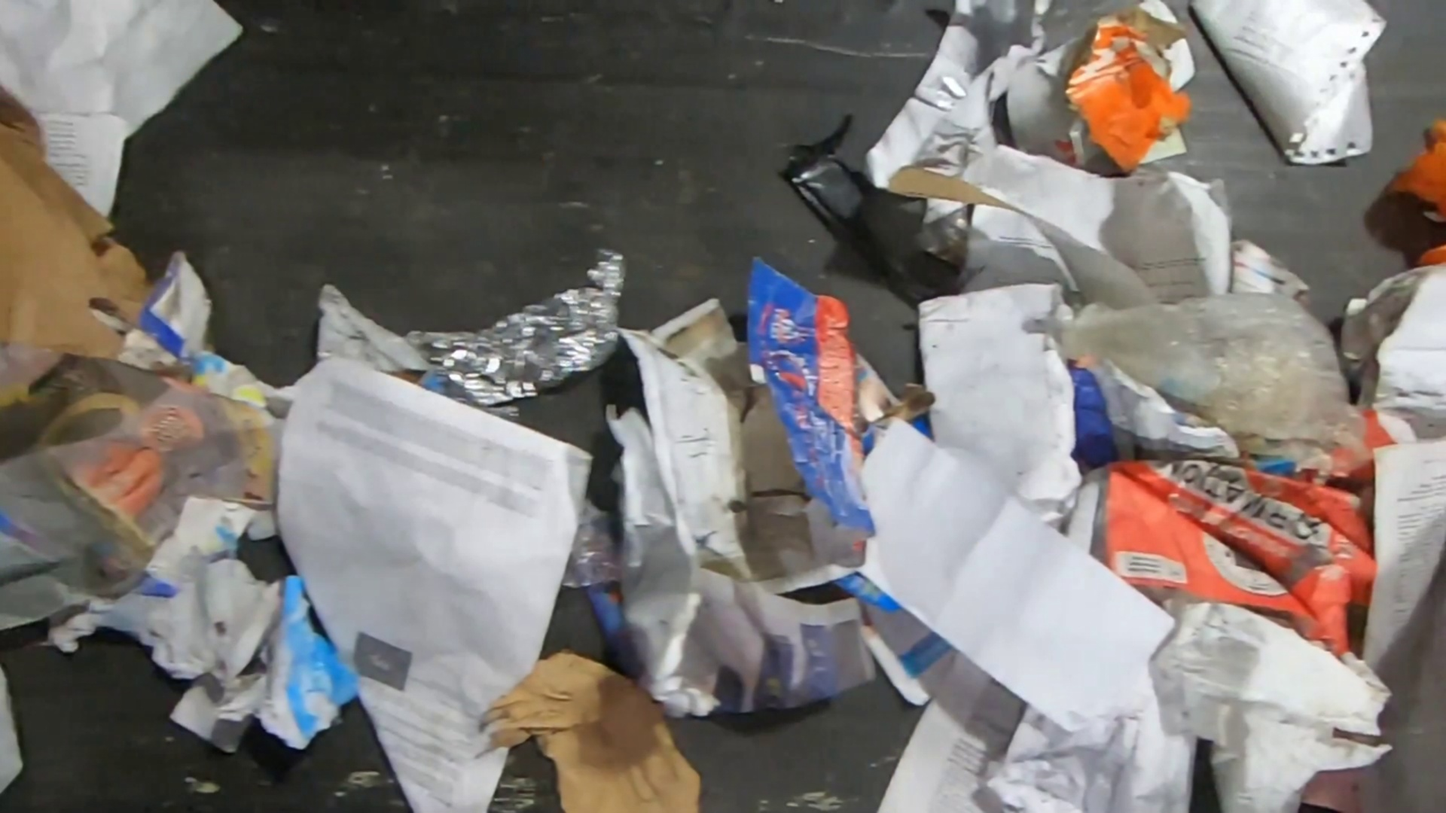cardboard: (1096, 407, 1425, 660), (744, 250, 933, 543), (0, 78, 153, 361), (482, 650, 700, 813), (1064, 6, 1198, 175), (135, 250, 219, 364), (887, 166, 1020, 211), (1069, 364, 1124, 472), (1391, 116, 1446, 224), (1415, 245, 1446, 268)
metal: (404, 245, 628, 411)
plastic: (1042, 290, 1362, 456), (778, 107, 967, 305)
